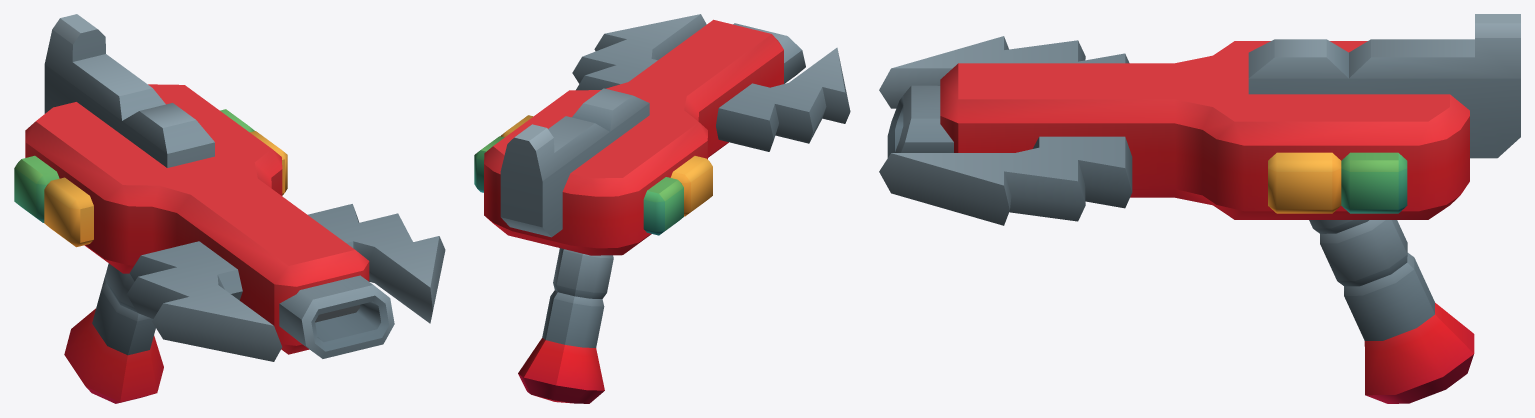
File: UltraTurboHeroMan_Blaster.obj
3 renders of one model, left to right at view 1: azimuth 30°, elevation 25°; view 2: azimuth 150°, elevation 25°; view 3: azimuth 270°, elevation 25°, orthographic. The views are drawn at different scales.
Visible parts, largest first — view 1: UltraTurboHeroMan_Blaster; view 2: UltraTurboHeroMan_Blaster; view 3: UltraTurboHeroMan_Blaster.
Boxes of the visible parts, <box> form: UltraTurboHeroMan_Blaster: <box>14,14,445,403</box>; UltraTurboHeroMan_Blaster: <box>474,14,850,403</box>; UltraTurboHeroMan_Blaster: <box>879,14,1520,403</box>.
Size of the model in its own units: 0.5897 by 0.6542 by 1.01.
1 material, 1 textured.
